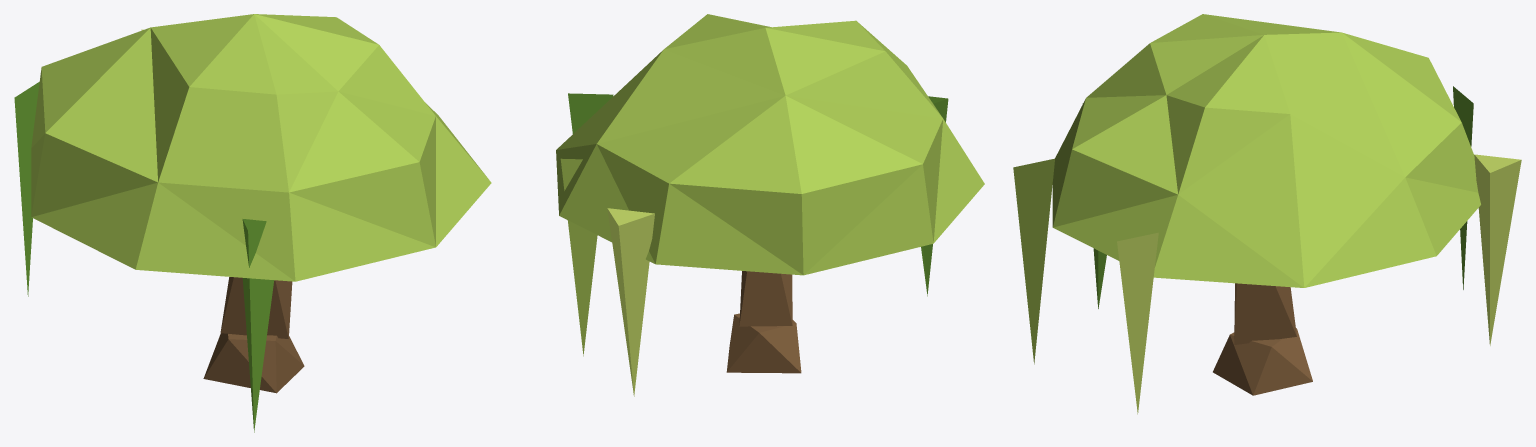
Rendered from tree_willow_1_lod1.glb.
The picture shows the model from 3 angles, left to right: view 1: azimuth 30°, elevation 25°; view 2: azimuth 150°, elevation 25°; view 3: azimuth 270°, elevation 25°; orthographic projection. The views are drawn at different scales.
Visible parts, largest first — view 1: tree_willow_1_lod1; view 2: tree_willow_1_lod1; view 3: tree_willow_1_lod1.
Part boxes in pixels (bbox=[...]): tree_willow_1_lod1: bbox=[14, 14, 491, 432]; tree_willow_1_lod1: bbox=[556, 14, 984, 396]; tree_willow_1_lod1: bbox=[1013, 14, 1521, 414].
Size of the model in its own units: 5.96 by 4.92 by 6.67.
